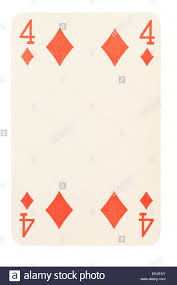four of diamonds: (12, 15, 160, 246)
